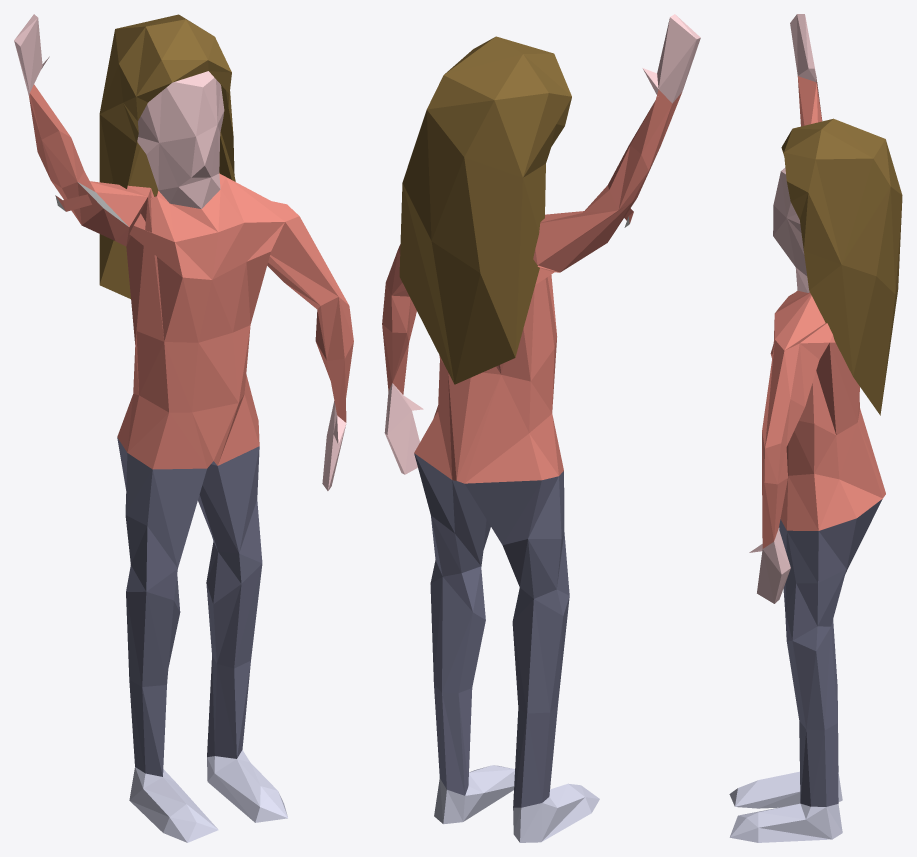
The model's file is girl.gltf.
3 views of the same model, side by side, from view 1: azimuth 30°, elevation 25°; view 2: azimuth 150°, elevation 25°; view 3: azimuth 270°, elevation 25° (orthographic). The views are drawn at different scales.
Parts seen in each view (by area): view 1: GirlWear, GirlPants, GirlHair, GirlSkin, GirlShoes; view 2: GirlHair, GirlPants, GirlWear, GirlShoes, GirlSkin; view 3: GirlHair, GirlWear, GirlPants, GirlShoes, GirlSkin.
Boxes of the visible parts, box(x1,y1,x2,y2) form: GirlWear: box(29, 84, 353, 469); GirlPants: box(117, 438, 262, 776); GirlHair: box(99, 14, 235, 298); GirlSkin: box(14, 14, 346, 490); GirlShoes: box(129, 750, 287, 842); GirlHair: box(399, 36, 571, 384); GirlPants: box(414, 453, 569, 807); GirlWear: box(382, 89, 682, 483); GirlShoes: box(434, 765, 599, 842); GirlSkin: box(384, 14, 700, 474); GirlHair: box(781, 118, 902, 415); GirlWear: box(762, 76, 885, 548); GirlPants: box(779, 499, 882, 806); GirlShoes: box(729, 771, 842, 842); GirlSkin: box(749, 14, 816, 603).
Bounding box in the file's own units: 41.03 × 101 × 21.6.
